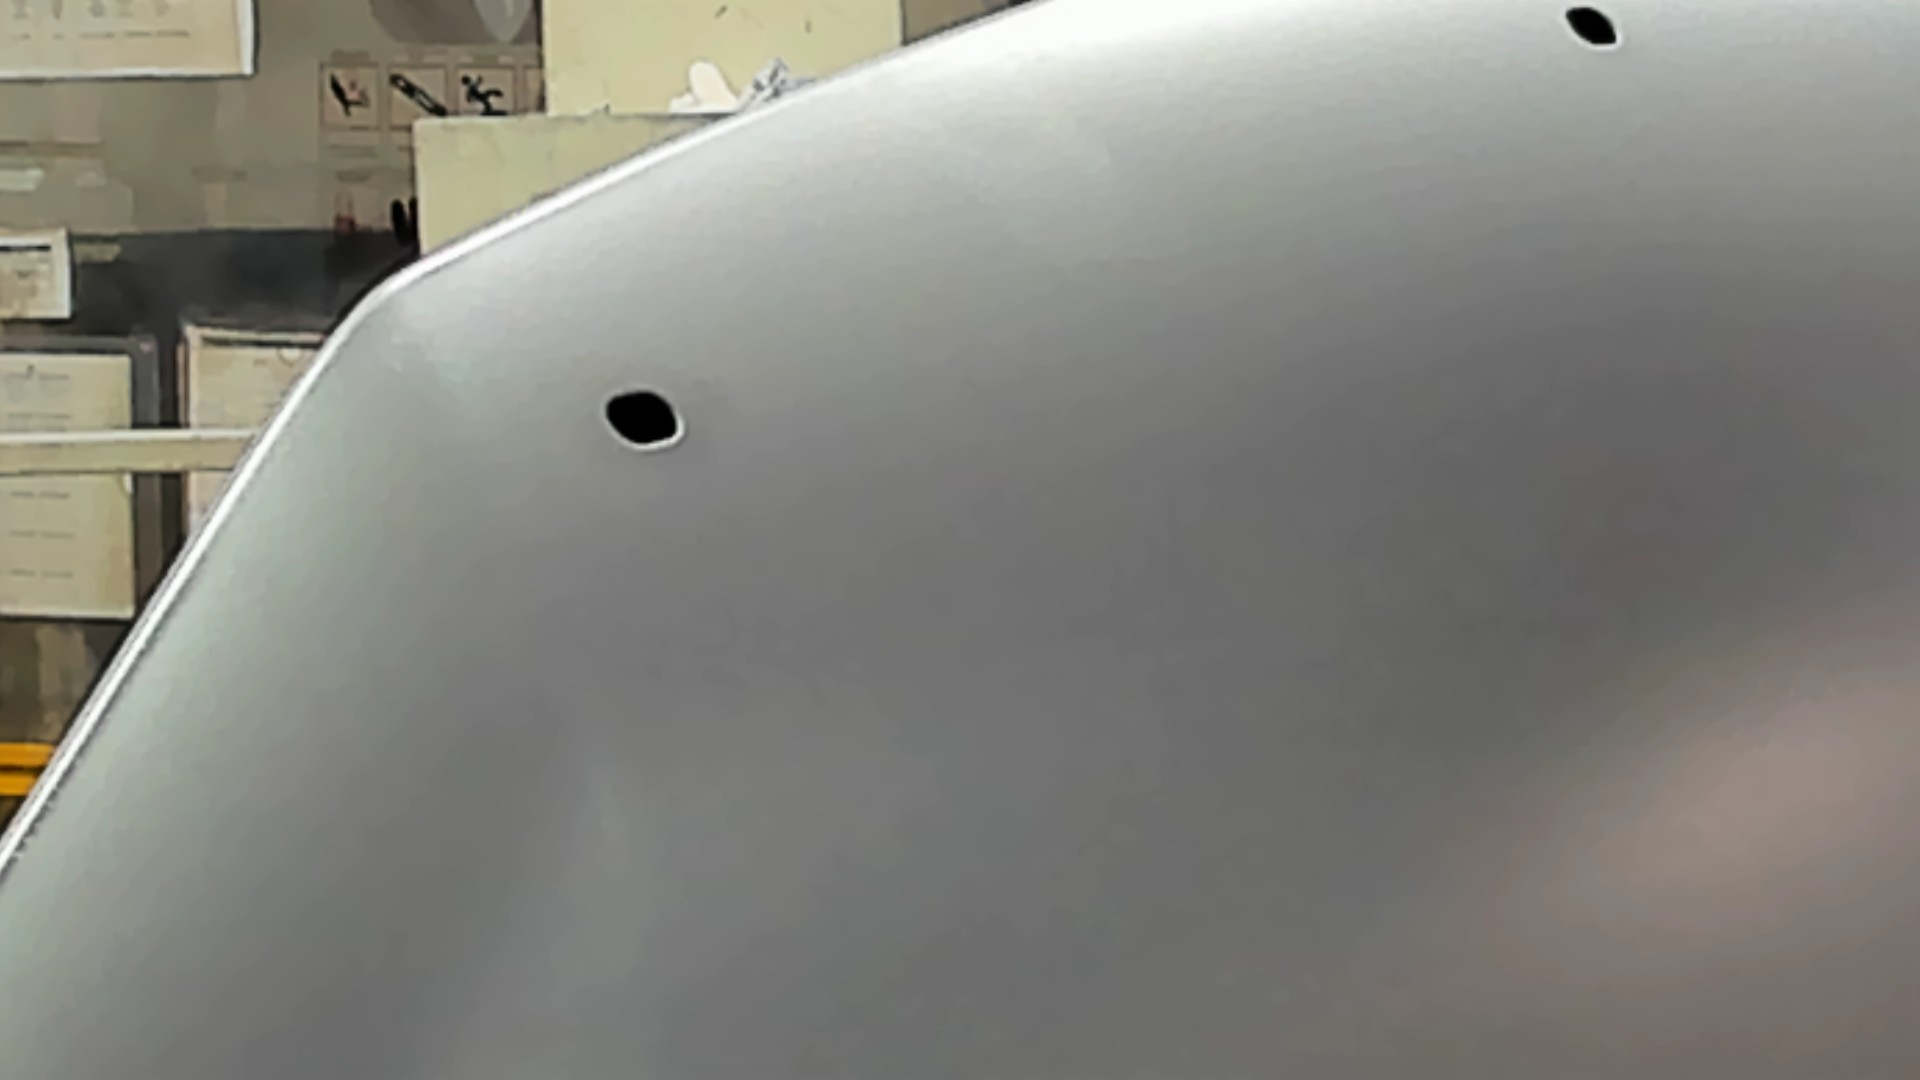amorfo: (603, 386, 688, 455), (1555, 1, 1629, 53)
